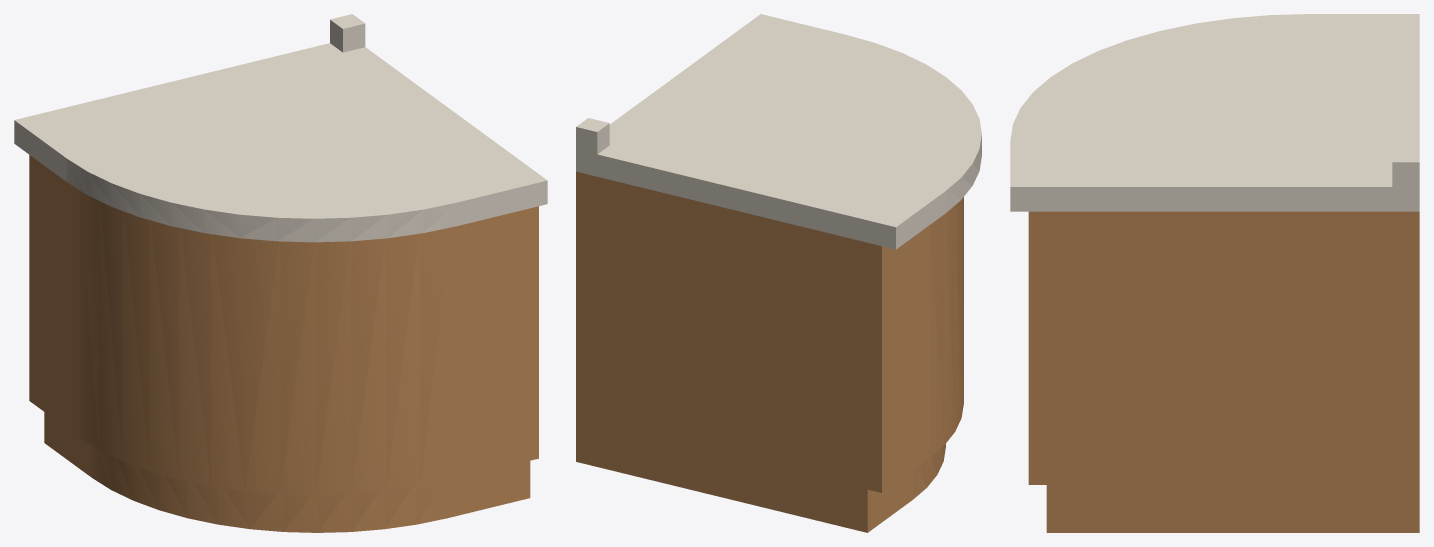
Rendered from kitKitchenCabinetCornerRound.glb.
3 renders of one model, left to right at view 1: azimuth 30°, elevation 25°; view 2: azimuth 150°, elevation 25°; view 3: azimuth 270°, elevation 25°, orthographic. The views are drawn at different scales.
Parts seen in each view (by area): view 1: kitKitchenCabinetCornerRound_wood, kitKitchenCabinetCornerRound_metal; view 2: kitKitchenCabinetCornerRound_wood, kitKitchenCabinetCornerRound_metal; view 3: kitKitchenCabinetCornerRound_wood, kitKitchenCabinetCornerRound_metal.
Part boxes in pixels (x1,y1,x2,y2): kitKitchenCabinetCornerRound_wood: (29,155,538,532); kitKitchenCabinetCornerRound_metal: (14,14,547,242); kitKitchenCabinetCornerRound_wood: (576,171,963,532); kitKitchenCabinetCornerRound_metal: (576,14,981,249); kitKitchenCabinetCornerRound_wood: (1028,211,1419,532); kitKitchenCabinetCornerRound_metal: (1010,14,1419,211).
Bounding box in the file's own units: 0.9 × 0.9 × 0.9.
